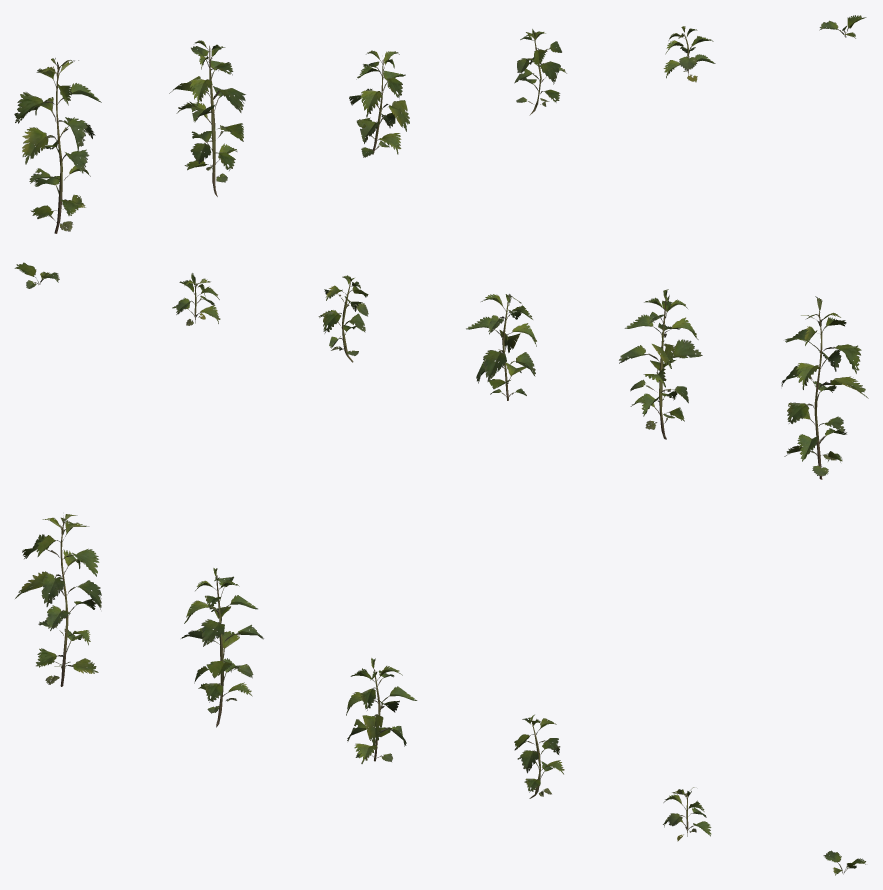
The model's file is nettle_plant.light.glb.
3 renders of one model, top to bottom at view 1: azimuth 30°, elevation 25°; view 2: azimuth 150°, elevation 25°; view 3: azimuth 330°, elevation 25°, orthographic.
Parts seen in each view (by area): view 1: nettle_plant_tall_a_LOD0, nettle_plant_tall_b_LOD0, nettle_plant_medium_a_LOD0, nettle_plant_medium_b_LOD0, nettle_plant_small_a_LOD0; view 2: nettle_plant_tall_a_LOD0, nettle_plant_tall_b_LOD0, nettle_plant_medium_a_LOD0, nettle_plant_medium_b_LOD0, nettle_plant_small_a_LOD0; view 3: nettle_plant_tall_a_LOD0, nettle_plant_tall_b_LOD0, nettle_plant_medium_a_LOD0, nettle_plant_medium_b_LOD0, nettle_plant_small_a_LOD0.
Boxes of the visible parts, left/top/right/bottom form: nettle_plant_tall_a_LOD0: left=14, top=58, right=101, bottom=233; nettle_plant_tall_b_LOD0: left=169, top=40, right=245, bottom=196; nettle_plant_medium_a_LOD0: left=349, top=50, right=409, bottom=157; nettle_plant_medium_b_LOD0: left=514, top=29, right=566, bottom=115; nettle_plant_small_a_LOD0: left=663, top=26, right=715, bottom=82; nettle_plant_tall_a_LOD0: left=781, top=296, right=868, bottom=479; nettle_plant_tall_b_LOD0: left=619, top=289, right=702, bottom=439; nettle_plant_medium_a_LOD0: left=466, top=294, right=536, bottom=400; nettle_plant_medium_b_LOD0: left=318, top=275, right=368, bottom=362; nettle_plant_small_a_LOD0: left=172, top=273, right=220, bottom=325; nettle_plant_tall_a_LOD0: left=15, top=514, right=101, bottom=686; nettle_plant_tall_b_LOD0: left=181, top=568, right=263, bottom=727; nettle_plant_medium_a_LOD0: left=346, top=658, right=417, bottom=763; nettle_plant_medium_b_LOD0: left=514, top=714, right=564, bottom=798; nettle_plant_small_a_LOD0: left=663, top=787, right=711, bottom=841.
Size of the model in its own units: 2 by 0.4028 by 0.1749.
1 material, 1 textured.
